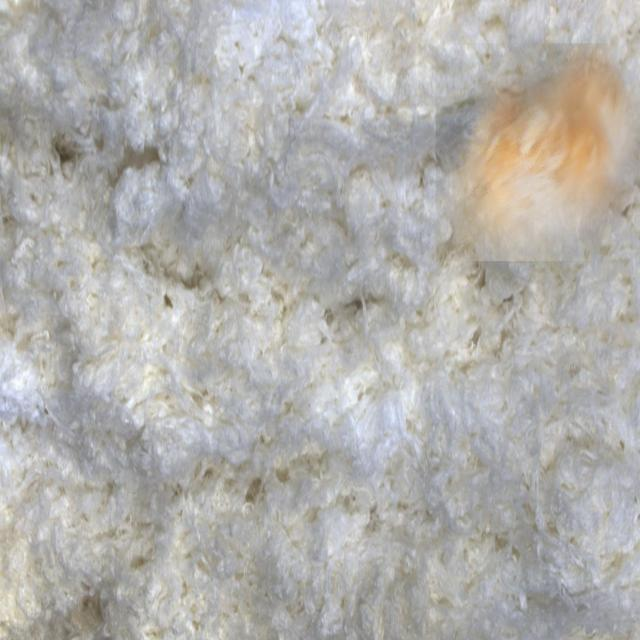dust: (435, 43, 640, 261)
